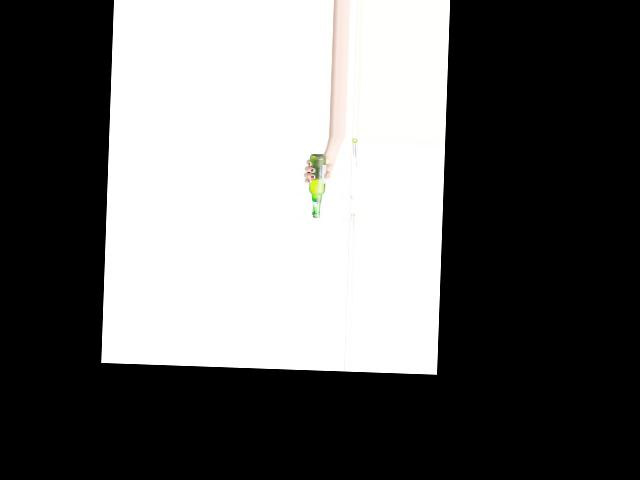beer: (307, 154, 327, 218)
